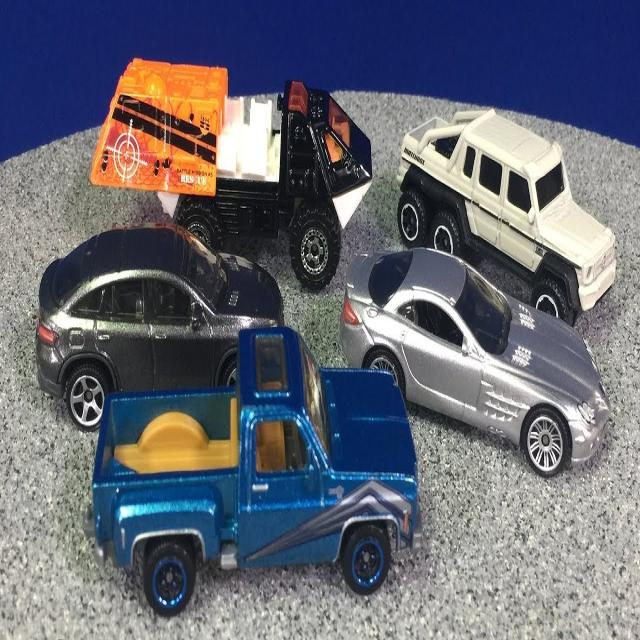Car: (82, 324, 422, 616), (338, 245, 612, 478), (34, 221, 284, 432), (396, 106, 616, 327)
